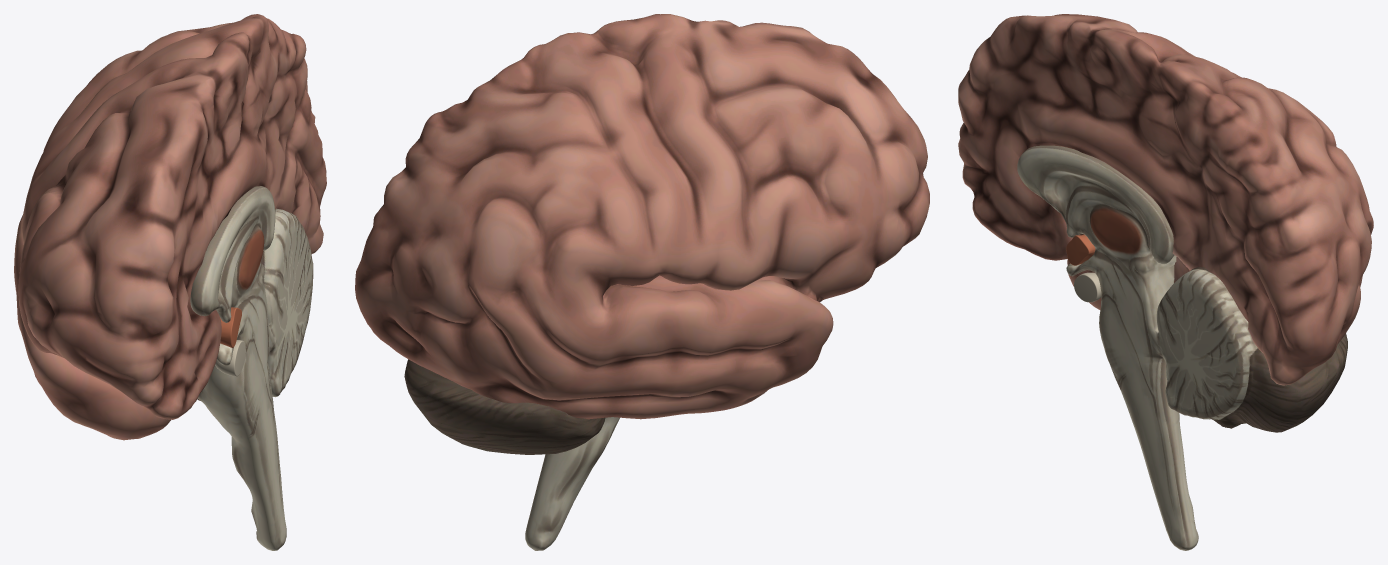
The model's file is human_brain.glb.
3 renders of one model, left to right at view 1: azimuth 30°, elevation 25°; view 2: azimuth 150°, elevation 25°; view 3: azimuth 270°, elevation 25°, orthographic. The views are drawn at different scales.
Parts seen in each view (by area): view 1: node_id30; view 2: node_id30; view 3: node_id30.
Part boxes in pixels (<box>): node_id30: <box>14,14,326,550</box>; node_id30: <box>355,14,929,550</box>; node_id30: <box>958,14,1373,550</box>.
Size of the model in its own units: 0.00299 by 0.00364 by 0.00286.
1 material, 1 textured.
